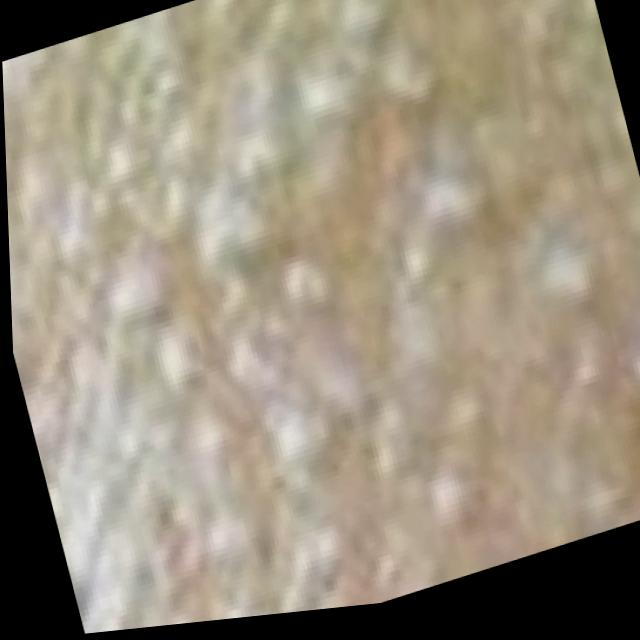whitehead: (2, 0, 640, 635)
